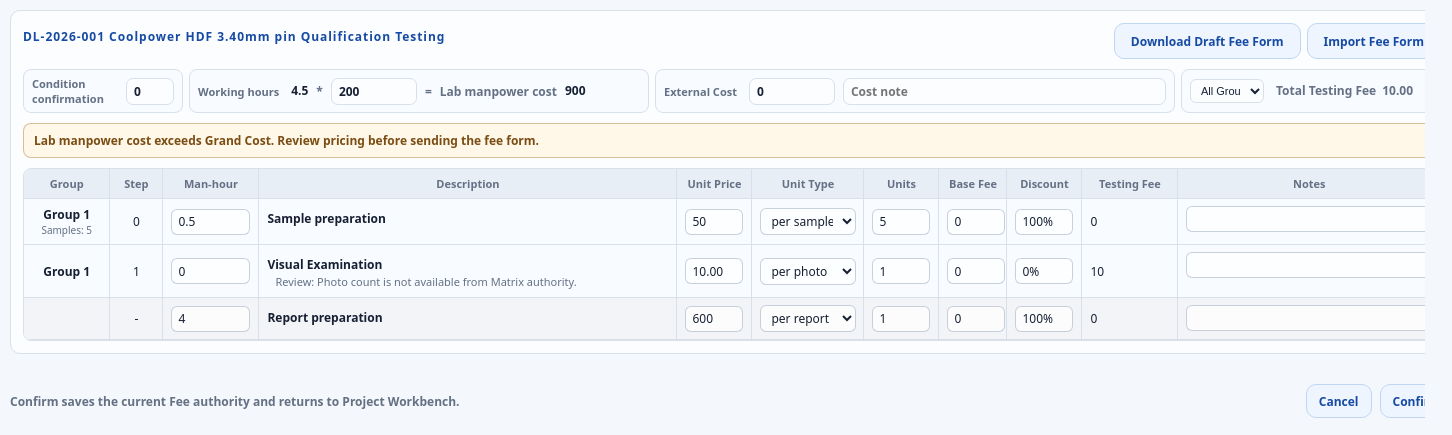
Test: FeeEvaluationReviewExportPage › does not confirm when autosave succeeds without a pricing draft id
Expected: the text "DL-2026-001 Coolpower HDF 3.40mm pin Qualification Testing" is shown, [23,28,445,44]
Step 1. Replace the text in the field named "Unit Price for Visual Examination" with "12" → (714, 271), box [686,258,744,284]
Wait 800 ms
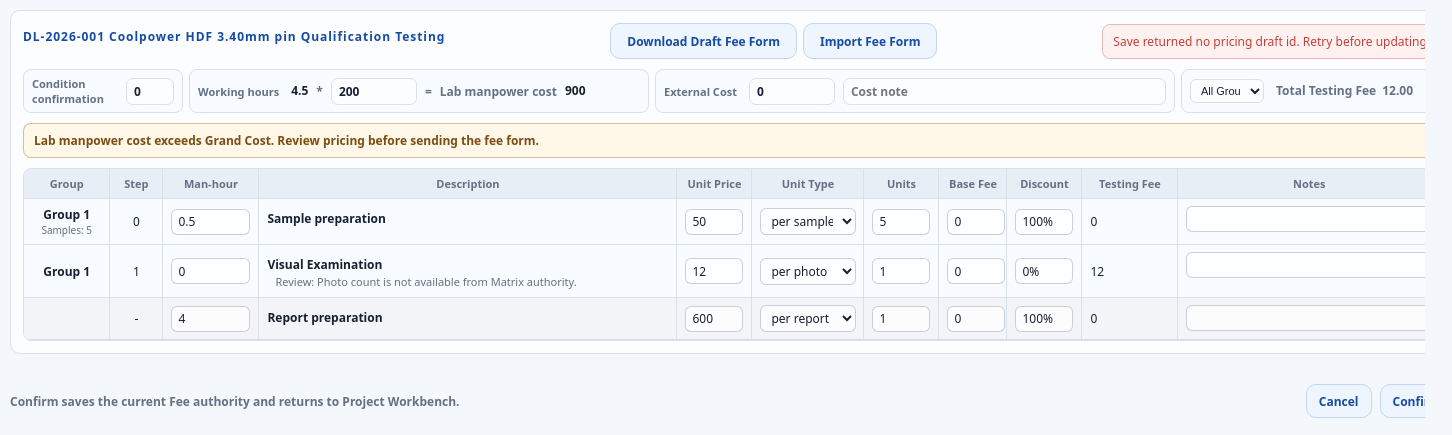
Expected: the text "Save returned no pricing draft id. Retry before updating." is shown once, [1102,24,1441,58]
